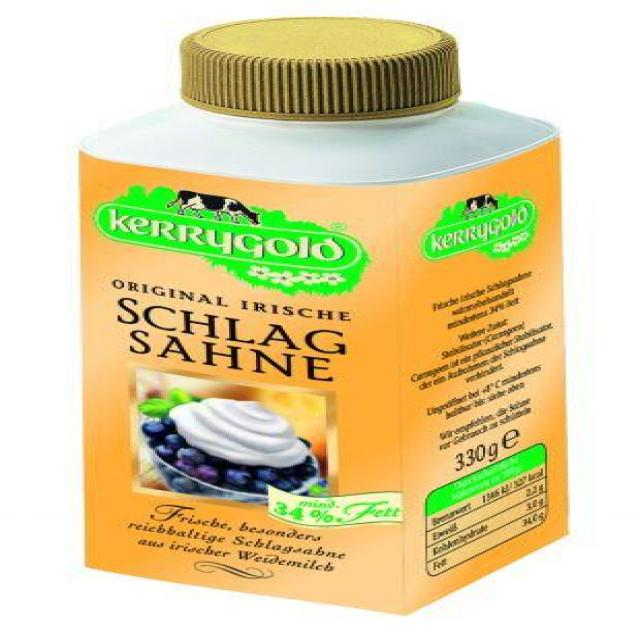Cream: (81, 17, 566, 613)
